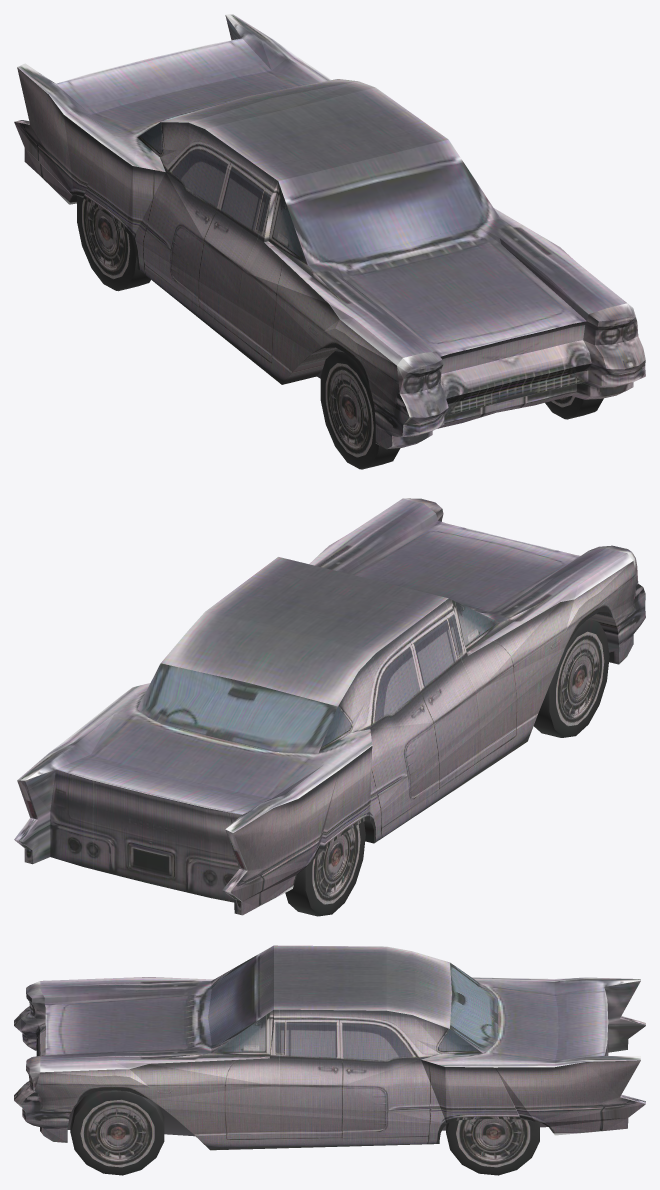
The model's file is cadillac_Eldorado.FBX.
3 views of the same model, one above another, from view 1: azimuth 30°, elevation 25°; view 2: azimuth 150°, elevation 25°; view 3: azimuth 270°, elevation 25° (orthographic). The views are drawn at different scales.
Visible parts, largest first — view 1: Cylinder001, WheelRF, WheelRB, WheelLF; view 2: Cylinder001, WheelRF, WheelRB; view 3: Cylinder001, WheelLF, WheelLB.
Part boxes in pixels (x1=…): Cylinder001: x1=14, y1=14, x2=645, y2=449; WheelRF: x1=320, y1=349, x2=400, y2=469; WheelRB: x1=77, y1=196, x2=150, y2=291; WheelLF: x1=545, y1=396, x2=603, y2=419; Cylinder001: x1=14, y1=498, x2=645, y2=915; WheelRF: x1=534, y1=619, x2=609, y2=737; WheelRB: x1=285, y1=821, x2=365, y2=916; Cylinder001: x1=14, y1=945, x2=645, y2=1150; WheelLF: x1=70, y1=1090, x2=164, y2=1175; WheelLB: x1=446, y1=1119, x2=539, y2=1175.
Size of the model in its own units: 0.4444 by 0.3511 by 1.28.
Materials: 1 (1 with a texture image).
